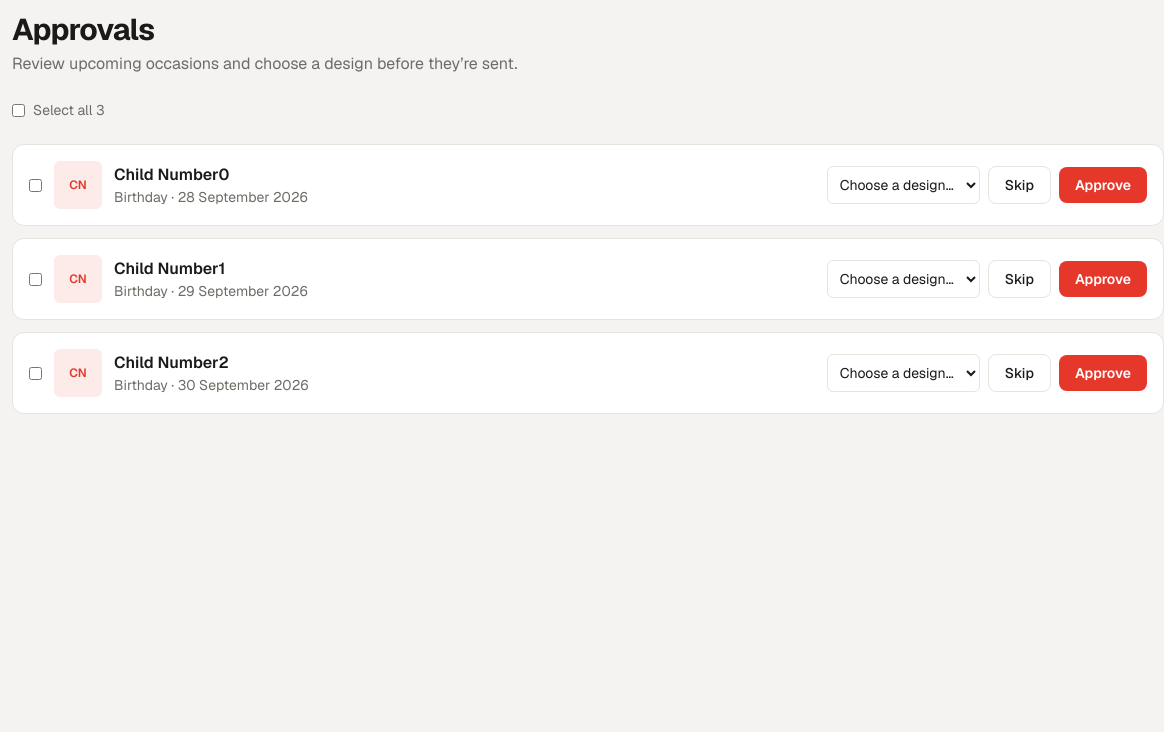
Test case: ApprovalsClient › approving a whole selection with one design › clears the approved rows and keeps the ones it could not approve
Click the checkbox labelled "Select all 3".
click(18, 110)  # box [12,104,25,116]
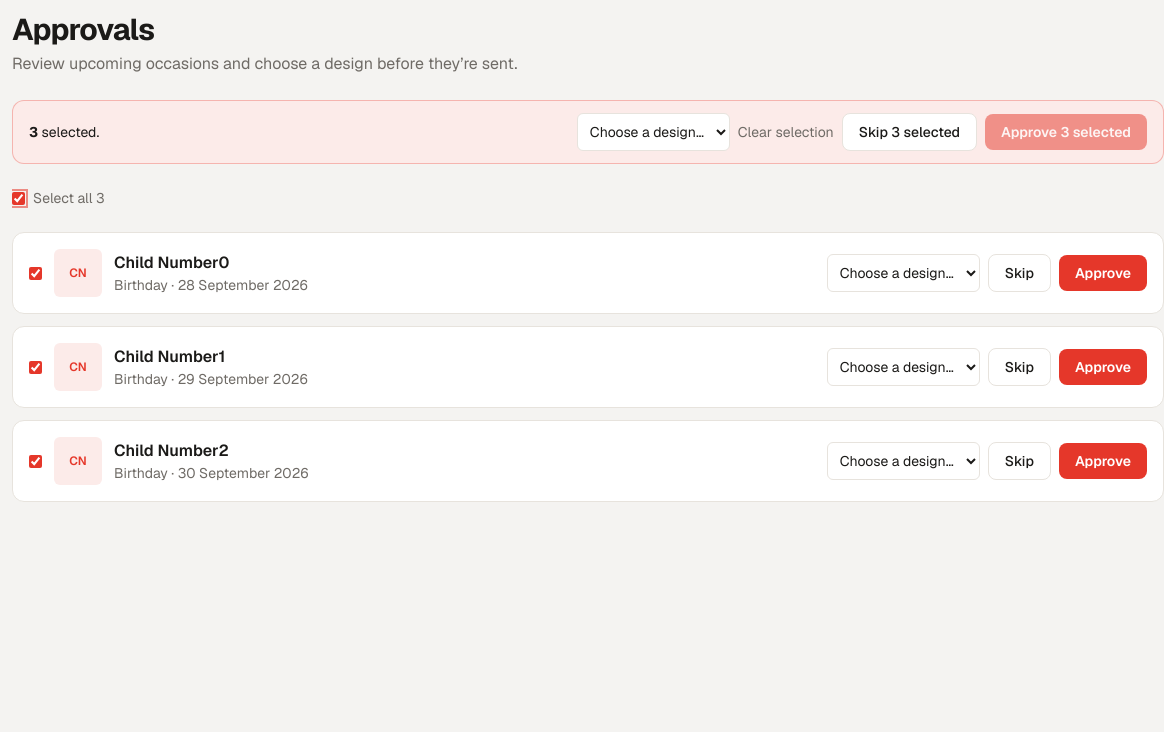
Select "Happy Birthday" in the dropdown named "Design to approve the selected cards with" at (653, 132), box [577,113,730,151]
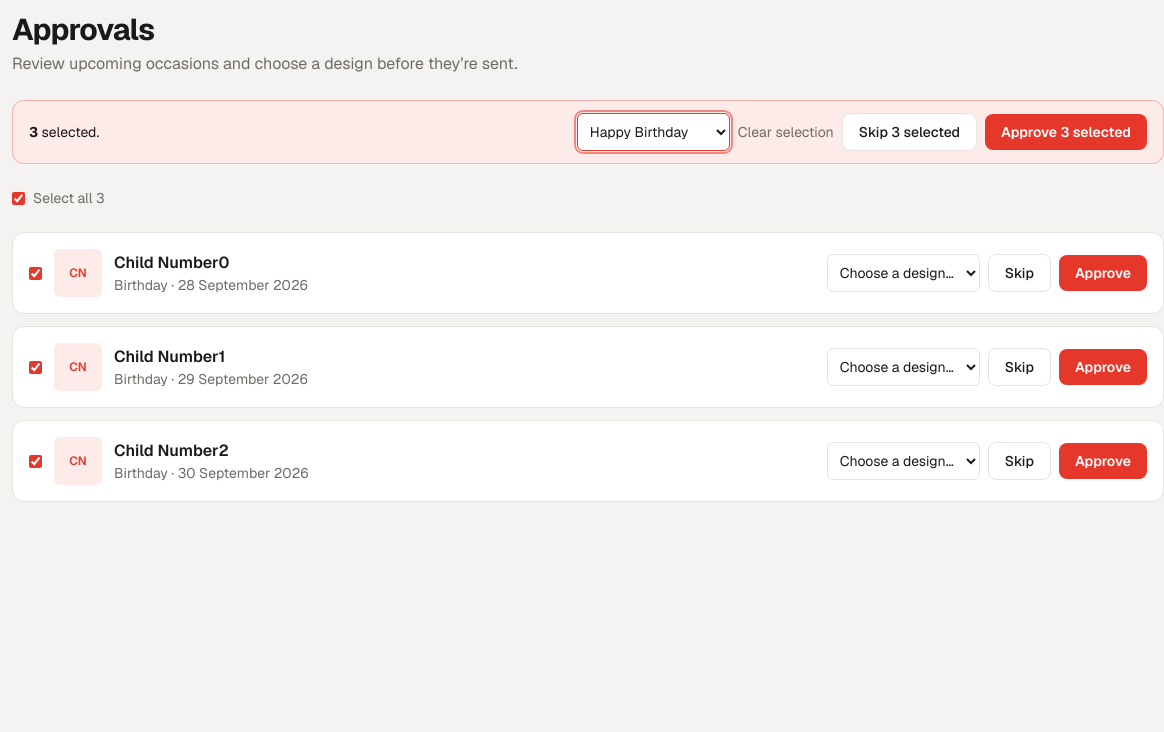
Click the button "Approve 3 selected".
click(1066, 132)  # box [985,114,1147,150]
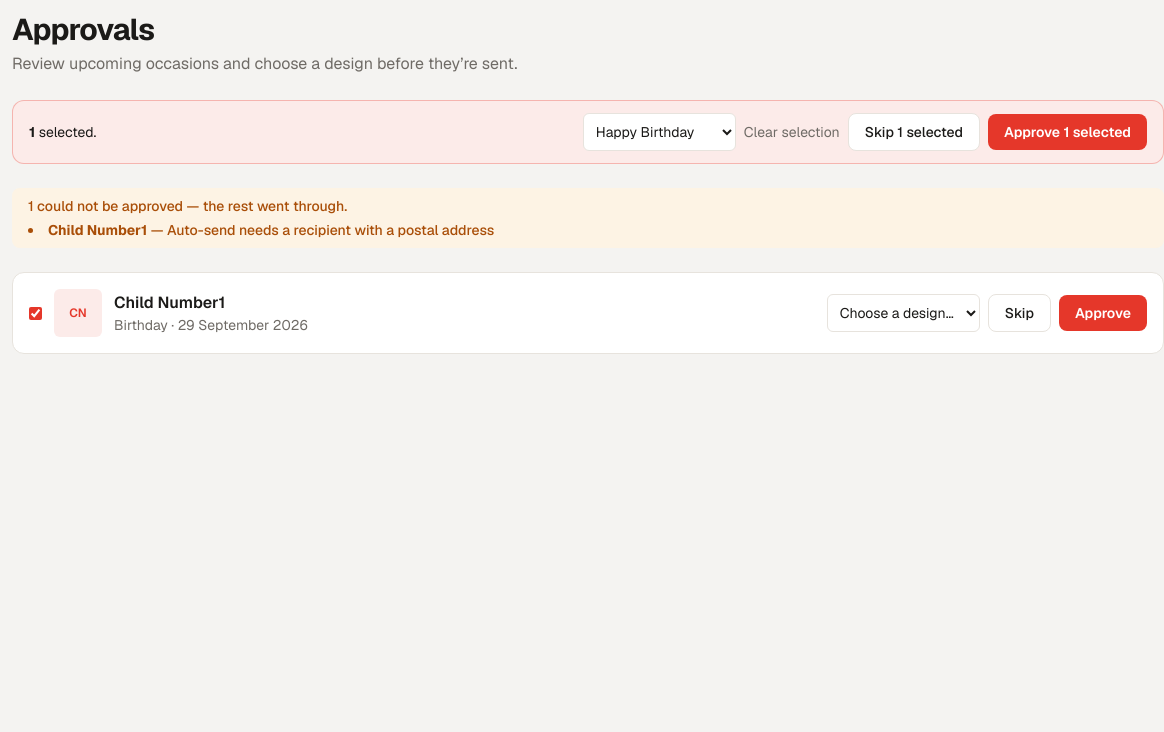
Now the text "Child Number0" is gone
Now the text "Child Number2" is gone
Now the 1st text "Child Number1" is shown, box [48,221,147,239]
